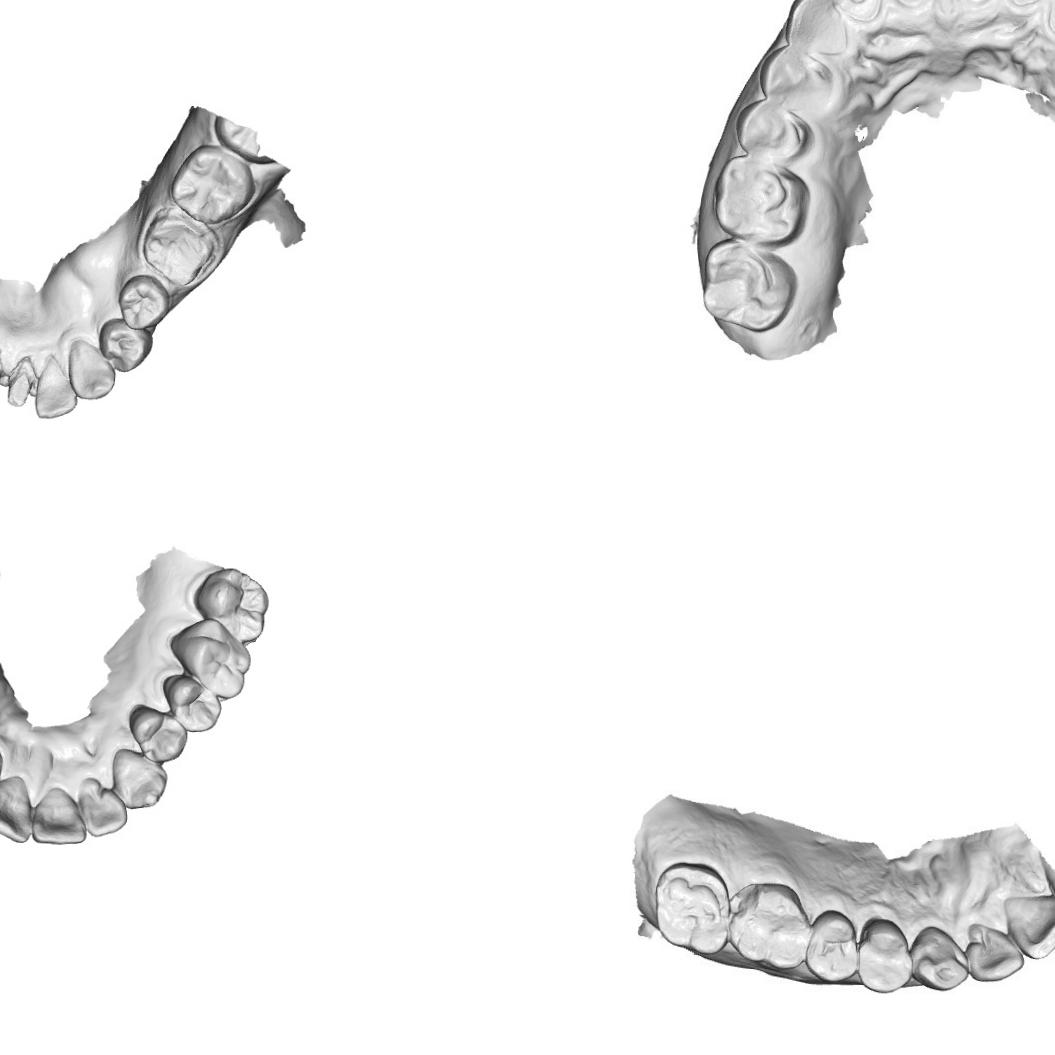canine: (909, 924, 970, 992), (108, 747, 168, 811), (784, 0, 853, 52), (66, 338, 118, 402)
crown: (138, 208, 219, 289), (4, 355, 35, 408)
incisor: (964, 920, 1026, 984), (30, 784, 89, 848), (1000, 893, 1055, 961), (74, 775, 129, 839), (34, 352, 78, 420), (0, 779, 35, 843), (832, 0, 888, 25)
molar: (650, 859, 732, 957), (167, 142, 259, 227), (705, 236, 791, 326), (727, 881, 813, 971), (168, 617, 252, 700), (718, 158, 799, 242), (191, 564, 272, 644)
premolar: (856, 916, 913, 996), (804, 906, 859, 986), (762, 44, 833, 102), (160, 672, 224, 734), (126, 704, 188, 764), (740, 100, 807, 154), (115, 272, 171, 332), (96, 318, 154, 374)
